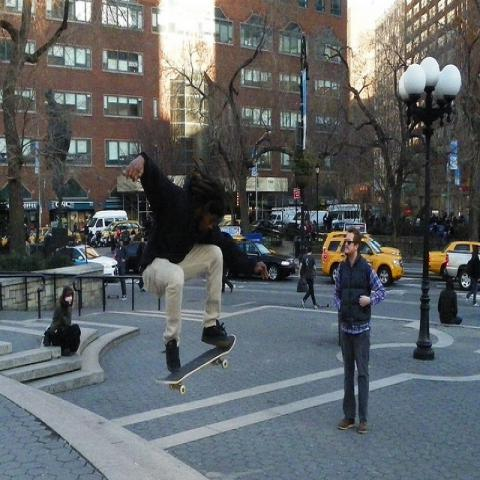bus: (323, 204, 361, 230)
car: (30, 200, 369, 244), (322, 230, 404, 260), (235, 240, 296, 280), (428, 240, 479, 277), (66, 244, 118, 278), (86, 210, 128, 238), (101, 220, 132, 246), (125, 240, 147, 273), (283, 211, 302, 240), (250, 219, 282, 231), (66, 229, 83, 247)
truck: (321, 232, 402, 284), (445, 252, 479, 291), (268, 206, 296, 229)
